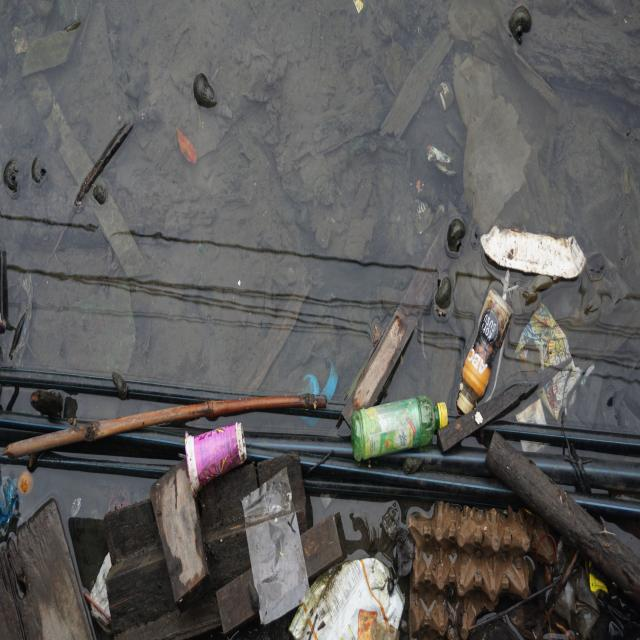Botol Plastik: (458, 285, 515, 421), (346, 391, 454, 458)
Bungkus Minuman: (180, 420, 253, 492)
